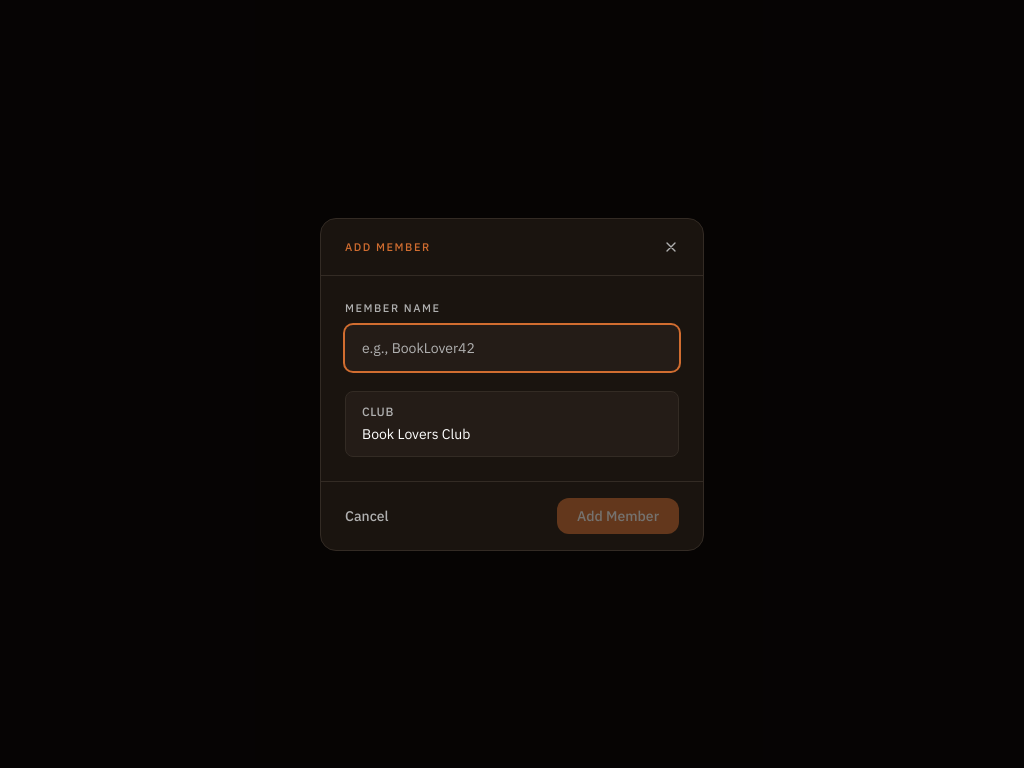
MemberModal › Rendering — Add Mode › enables submit button when name is filled
Step 1. Type "New Member" into the field with placeholder "e.g., BookLover42" → (512, 348), box [345,324,679,370]
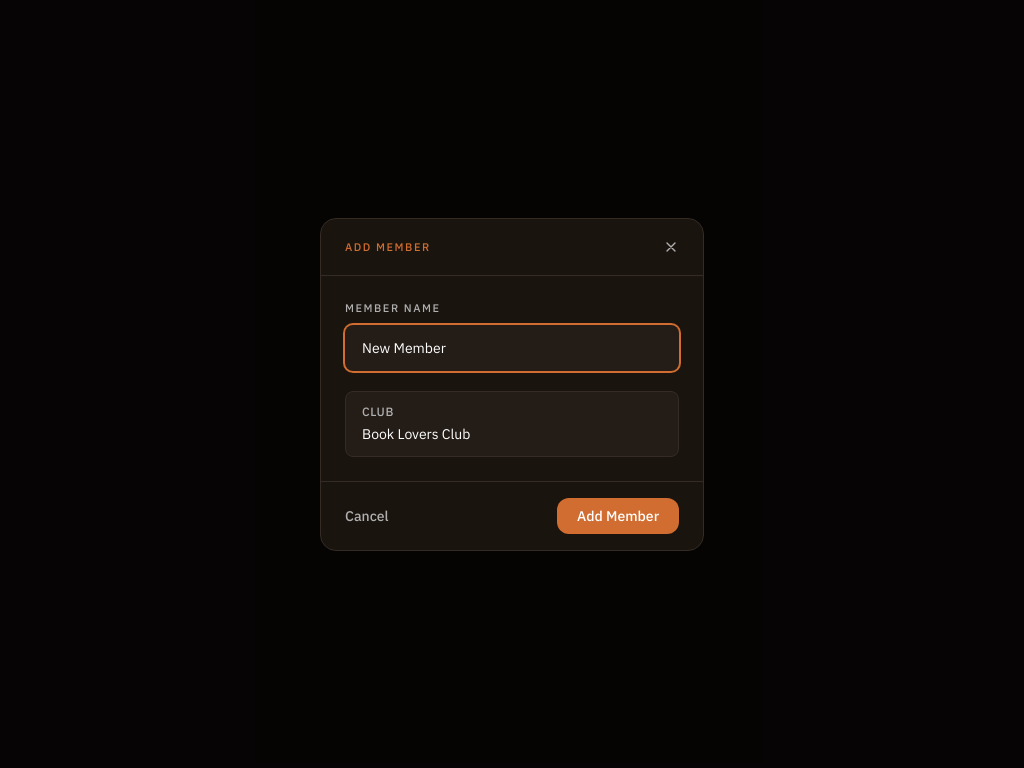
Check: the button "Add Member" is enabled, box [557,498,679,534]
